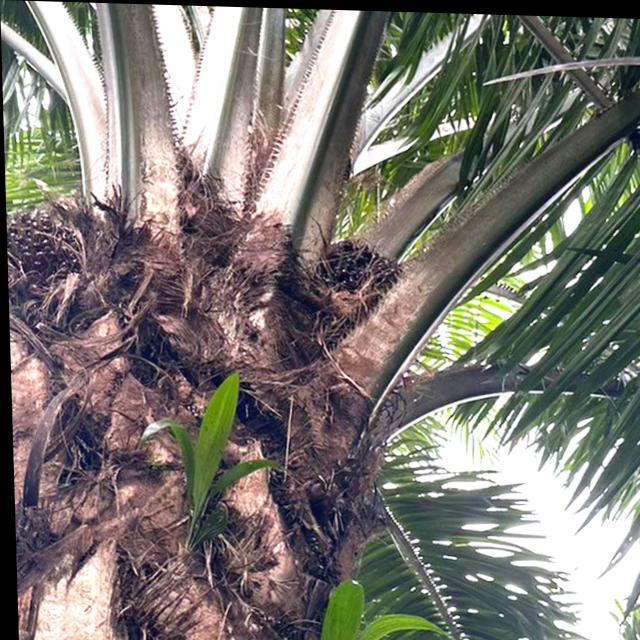unripe: (295, 232, 415, 326), (5, 194, 102, 299)
